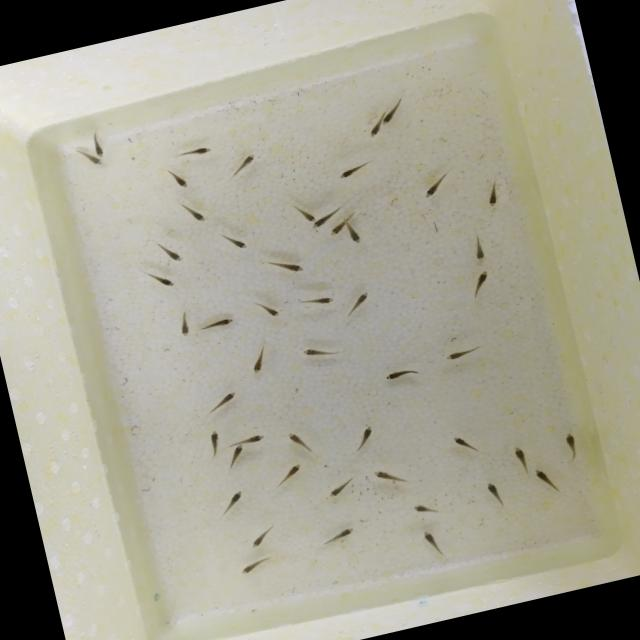fingerling: (139, 264, 184, 297), (368, 461, 412, 492), (416, 167, 456, 201), (264, 252, 311, 280), (243, 518, 284, 550), (235, 548, 278, 578), (416, 523, 449, 562), (531, 462, 564, 500), (297, 339, 345, 365), (317, 522, 361, 550), (202, 387, 243, 417), (176, 196, 212, 230), (153, 236, 190, 269), (446, 428, 484, 460), (380, 361, 428, 386), (462, 266, 497, 300), (340, 288, 376, 320), (284, 424, 316, 460), (440, 342, 488, 366), (320, 473, 360, 501), (270, 460, 308, 489), (331, 158, 376, 182), (244, 340, 274, 376), (480, 476, 510, 512), (227, 150, 263, 179), (407, 495, 445, 522), (216, 488, 250, 518), (170, 142, 218, 163), (218, 228, 254, 256), (293, 290, 338, 312), (350, 419, 380, 452), (558, 426, 584, 464), (376, 98, 409, 126), (466, 232, 492, 266), (198, 312, 240, 333), (253, 296, 284, 324), (172, 306, 197, 340), (228, 428, 270, 448), (224, 442, 252, 472), (202, 426, 228, 458), (508, 440, 532, 474), (165, 164, 192, 192), (481, 178, 506, 208), (292, 198, 316, 226), (87, 125, 108, 156), (346, 222, 362, 247), (324, 220, 346, 238), (364, 122, 382, 140), (310, 216, 330, 231), (88, 154, 106, 170)
